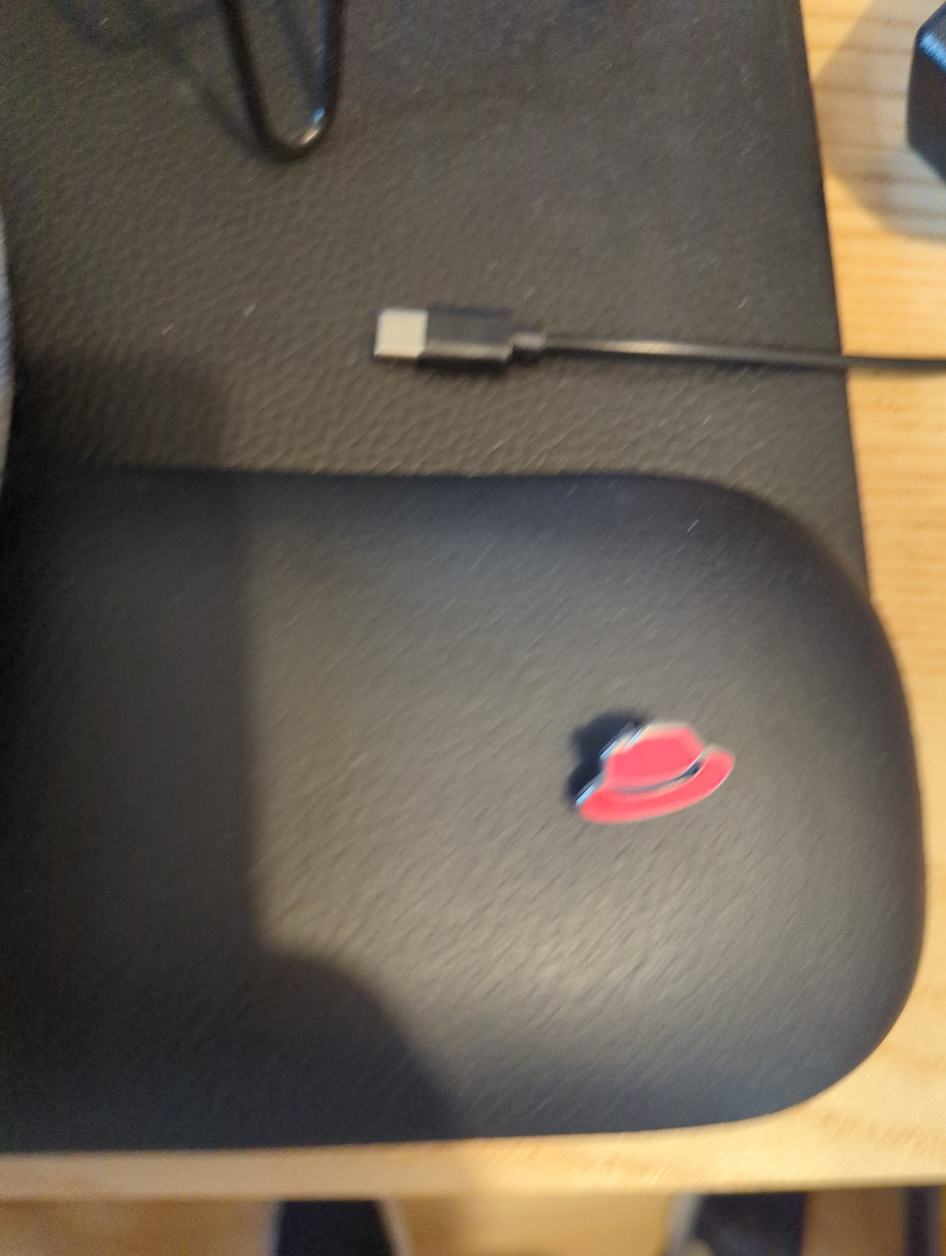Red-Hat: (520, 693, 808, 876)
